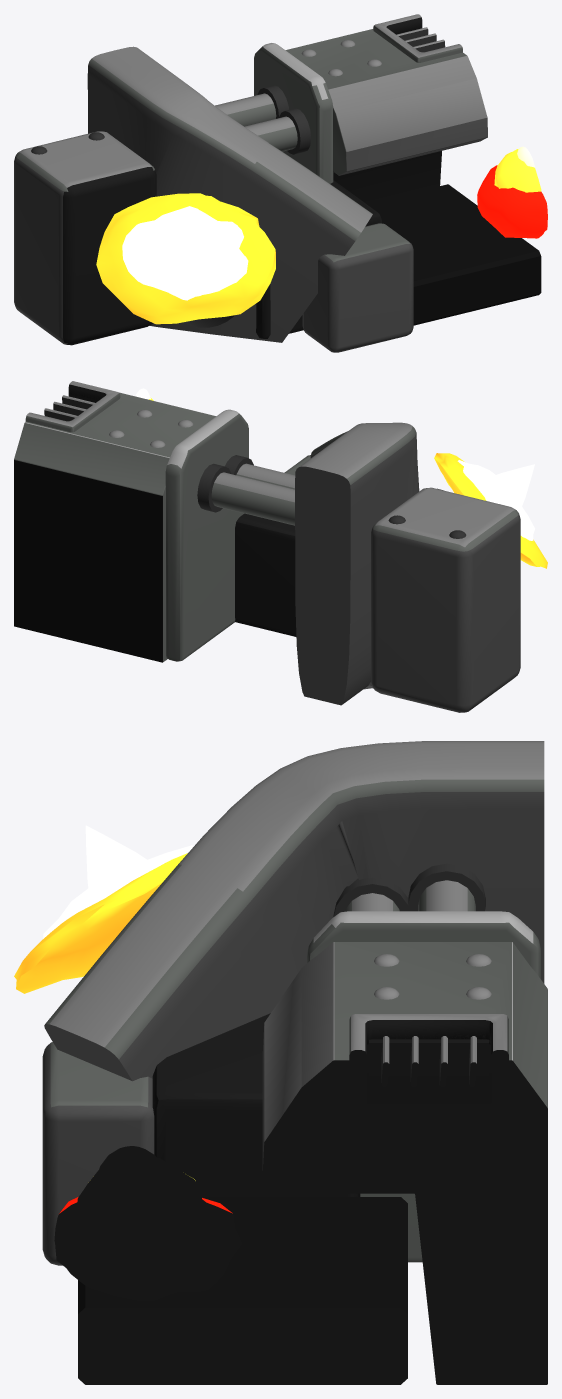
Rendered from jaw_gun_b_left_275.glb.
3 renders of one model, top to bottom at view 1: azimuth 30°, elevation 25°; view 2: azimuth 150°, elevation 25°; view 3: azimuth 270°, elevation 25°, orthographic. The views are drawn at different scales.
Visible parts, largest first — view 1: bracket.001, pod.001, upper_jaw.001, mouth_floor.001, bracket_foot.001, flare0.001, flare1.001, flange.001, fireball0.001, bezel.001, fireball1.001, rod0.001 (+5 smaller); view 2: upper_jaw.001, pod.001, bracket.001, flange.001, base.001, rod0.001, bezel.001, flare0.001, flare1.001, flame.001, rod1.001, rod0_collar0.001; view 3: upper_jaw.001, bracket.001, mouth_floor.001, fireball0.001, base.001, bracket_foot.001, flange.001, fireball1.001, flare0.001, bezel.001, slat_rail1.001, fireball2.001 (+6 smaller).
Boxes of the visible parts, x1=… form: bracket.001: x1=87, y1=46, x2=372, y2=342; pod.001: x1=14, y1=131, x2=156, y2=345; upper_jaw.001: x1=285, y1=24, x2=487, y2=203; mouth_floor.001: x1=367, y1=184, x2=541, y2=325; bracket_foot.001: x1=302, y1=223, x2=413, y2=352; flare0.001: x1=96, y1=193, x2=275, y2=324; flare1.001: x1=122, y1=206, x2=248, y2=300; flange.001: x1=254, y1=43, x2=333, y2=183; fireball0.001: x1=477, y1=165, x2=547, y2=238; bezel.001: x1=373, y1=14, x2=462, y2=62; fireball1.001: x1=494, y1=149, x2=541, y2=192; rod0.001: x1=215, y1=93, x2=276, y2=126; upper_jaw.001: x1=14, y1=390, x2=215, y2=662; pod.001: x1=371, y1=487, x2=520, y2=712; bracket.001: x1=295, y1=422, x2=419, y2=705; flange.001: x1=165, y1=409, x2=248, y2=661; base.001: x1=235, y1=513, x2=296, y2=636; rod0.001: x1=211, y1=472, x2=294, y2=525; bezel.001: x1=25, y1=381, x2=120, y2=432; flare0.001: x1=434, y1=453, x2=547, y2=568; flare1.001: x1=457, y1=460, x2=534, y2=540; flame.001: x1=491, y1=464, x2=534, y2=507; rod1.001: x1=236, y1=463, x2=295, y2=489; rod0_collar0.001: x1=197, y1=463, x2=231, y2=512; upper_jaw.001: x1=262, y1=942, x2=547, y2=1384; bracket.001: x1=44, y1=741, x2=544, y2=1081; mouth_floor.001: x1=78, y1=1197, x2=407, y2=1384; fireball0.001: x1=54, y1=1187, x2=242, y2=1301; base.001: x1=152, y1=1013, x2=360, y2=1196; bracket_foot.001: x1=42, y1=1042, x2=154, y2=1265; flange.001: x1=307, y1=911, x2=540, y2=1262; fireball1.001: x1=76, y1=1155, x2=203, y2=1267; flare0.001: x1=14, y1=853, x2=187, y2=993; bezel.001: x1=349, y1=1014, x2=508, y2=1076; slat_rail1.001: x1=369, y1=1039, x2=489, y2=1076; fireball2.001: x1=98, y1=1146, x2=166, y2=1207.
Bounding box in the file's own units: 23.4 × 11.85 × 15.06.
